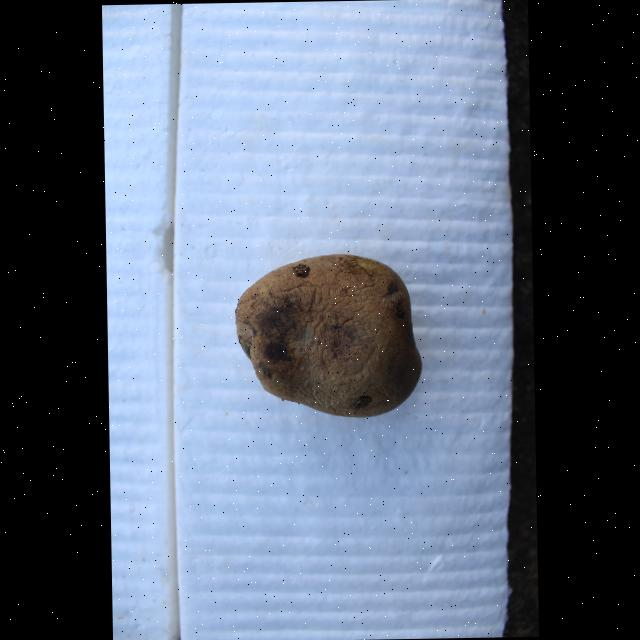Diseased-fungal potato: (230, 248, 426, 418)
